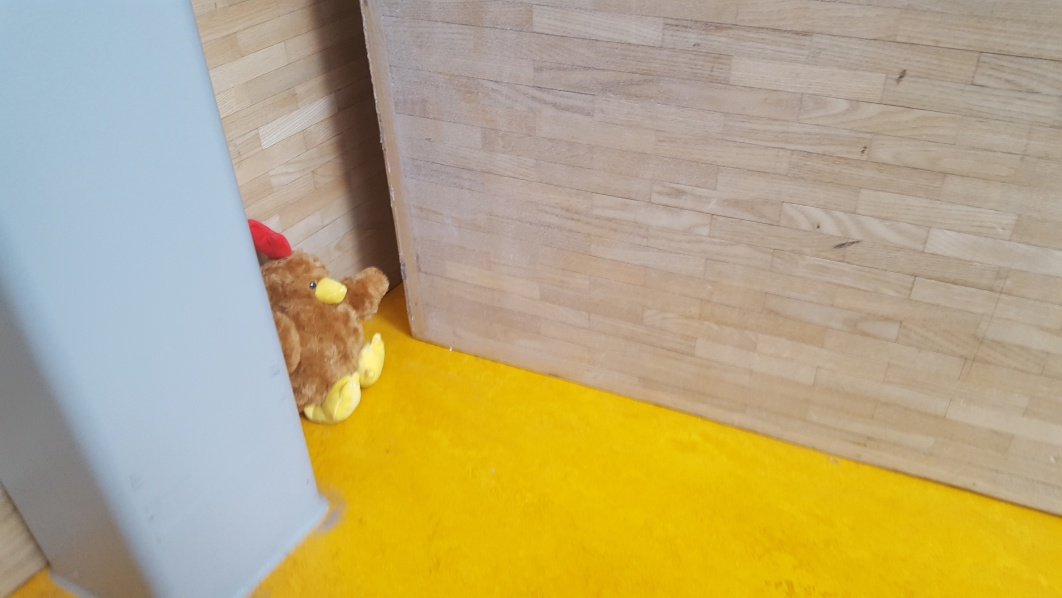chicken: (245, 215, 390, 430)
